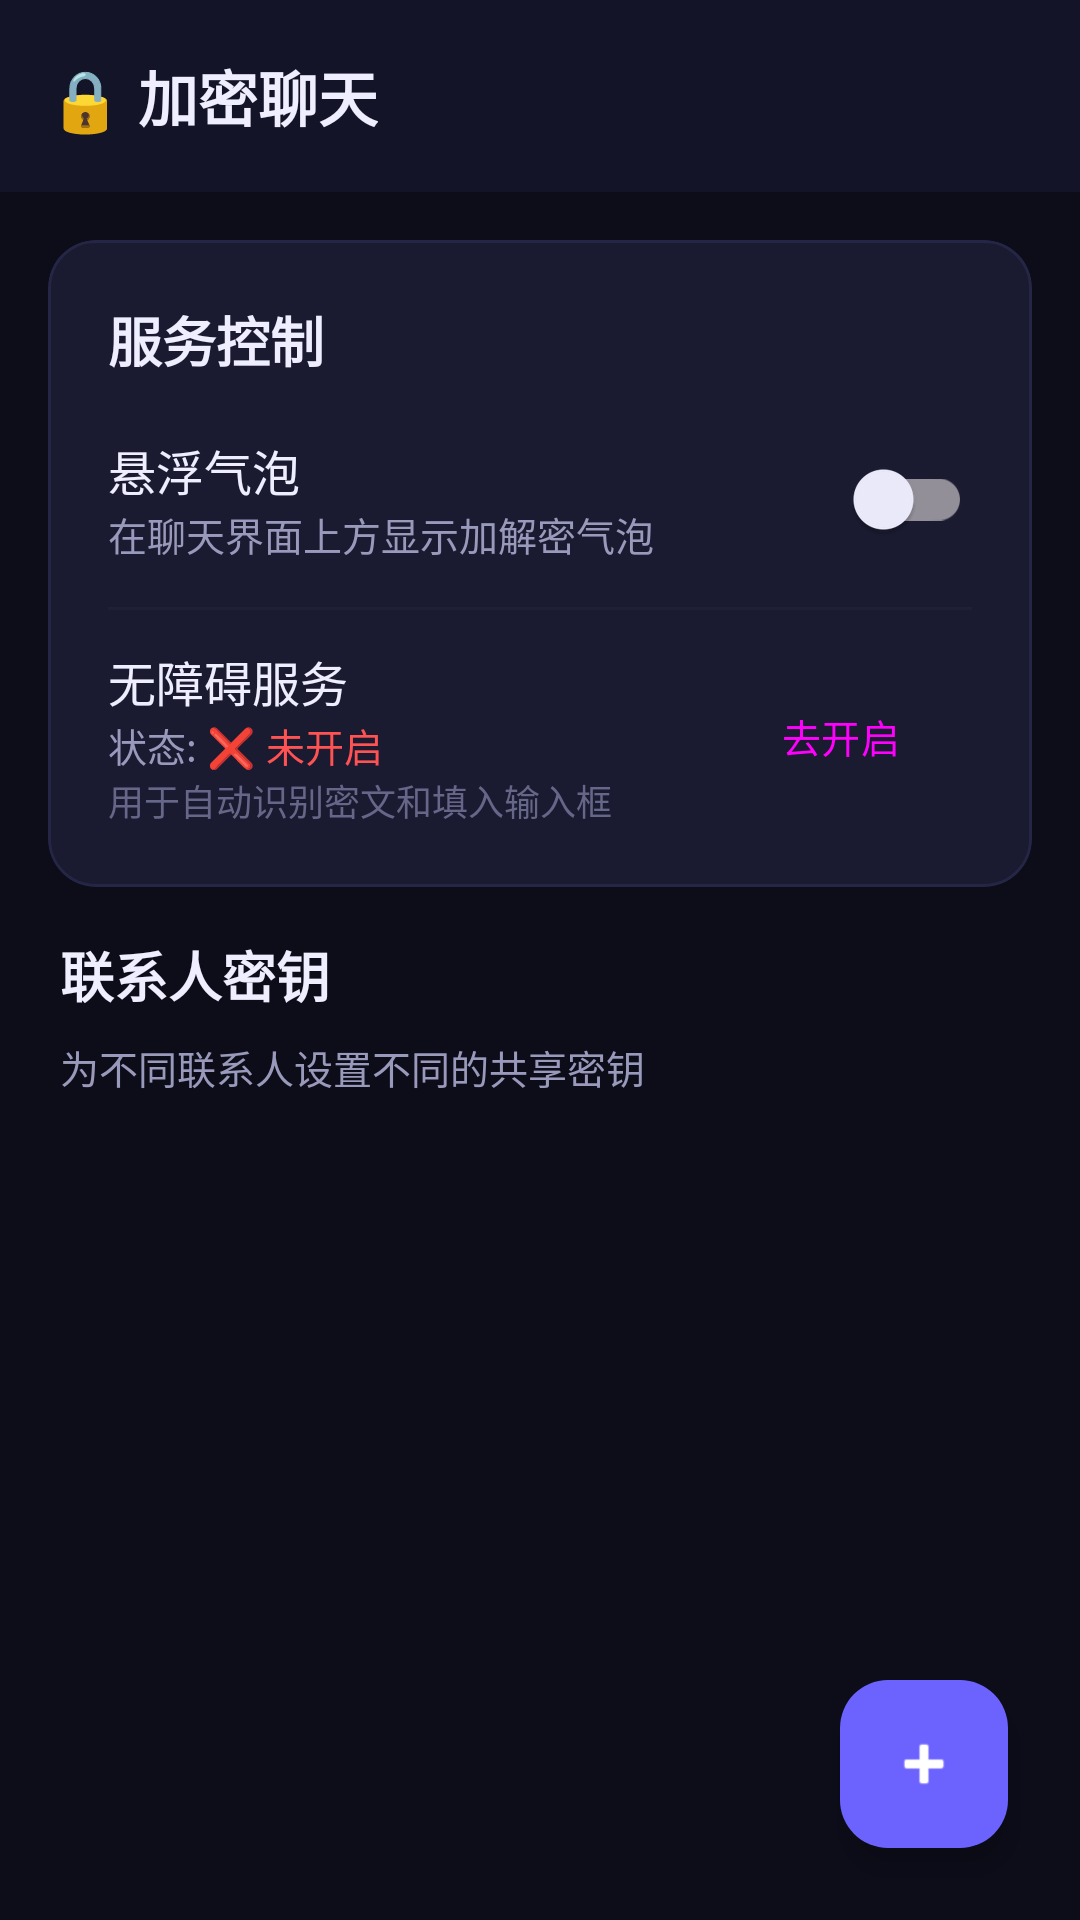

Icons on this 1080x1920 Android screen, each with the point to tap as (x,y):
添加联系人: (924,1764)
